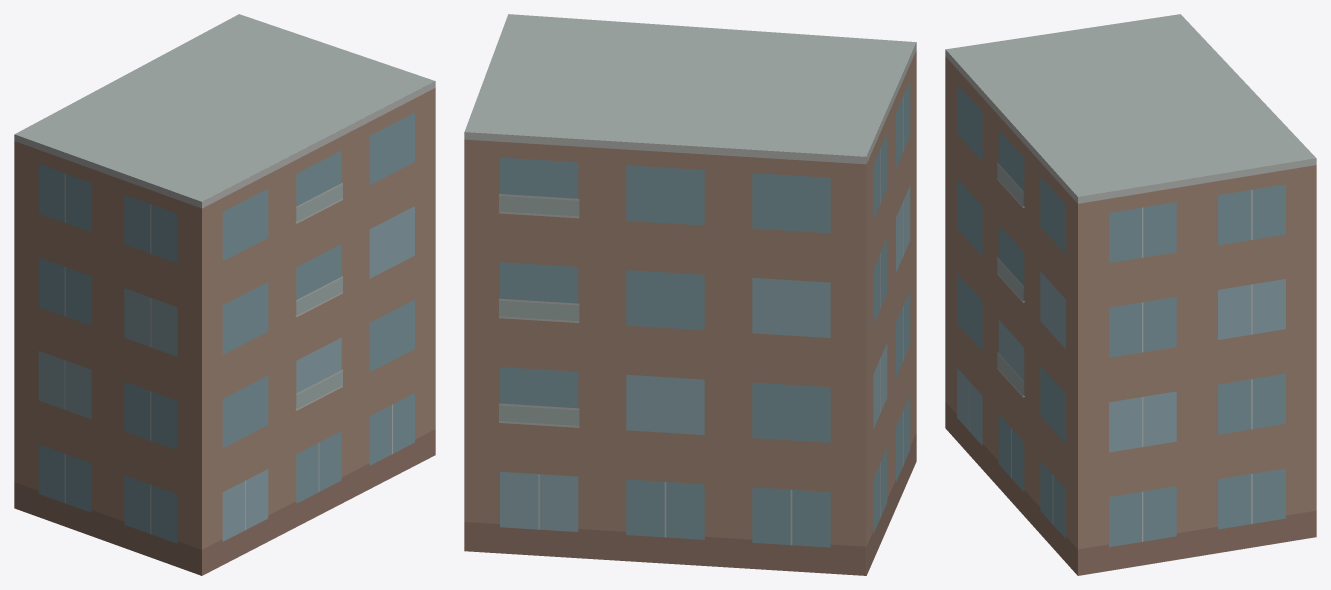
File: survey-upis-32865637.glb
3 renders of one model, left to right at view 1: azimuth 30°, elevation 25°; view 2: azimuth 150°, elevation 25°; view 3: azimuth 270°, elevation 25°, orthographic. The views are drawn at different scales.
Visible parts, largest first — view 1: survey-upis-32865637.tmp; view 2: survey-upis-32865637.tmp; view 3: survey-upis-32865637.tmp.
Boxes of the visible parts, <box> form: survey-upis-32865637.tmp: <box>14,14,435,575</box>; survey-upis-32865637.tmp: <box>464,14,916,575</box>; survey-upis-32865637.tmp: <box>945,14,1316,575</box>.
Bounding box in the file's own units: 14.16 × 13.65 × 12.13.
